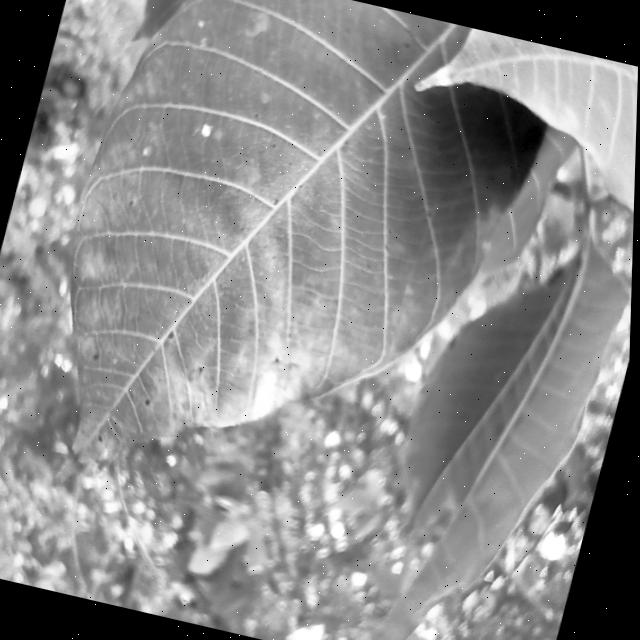Colletotrichum: (146, 397, 153, 405)
Leaf-Blight: (246, 356, 317, 432), (169, 367, 225, 437), (415, 57, 460, 97)
